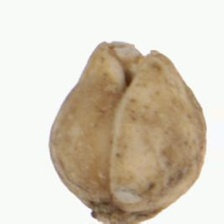L1: (103, 38, 156, 81), (90, 209, 159, 224)
L2: (49, 41, 207, 224)
